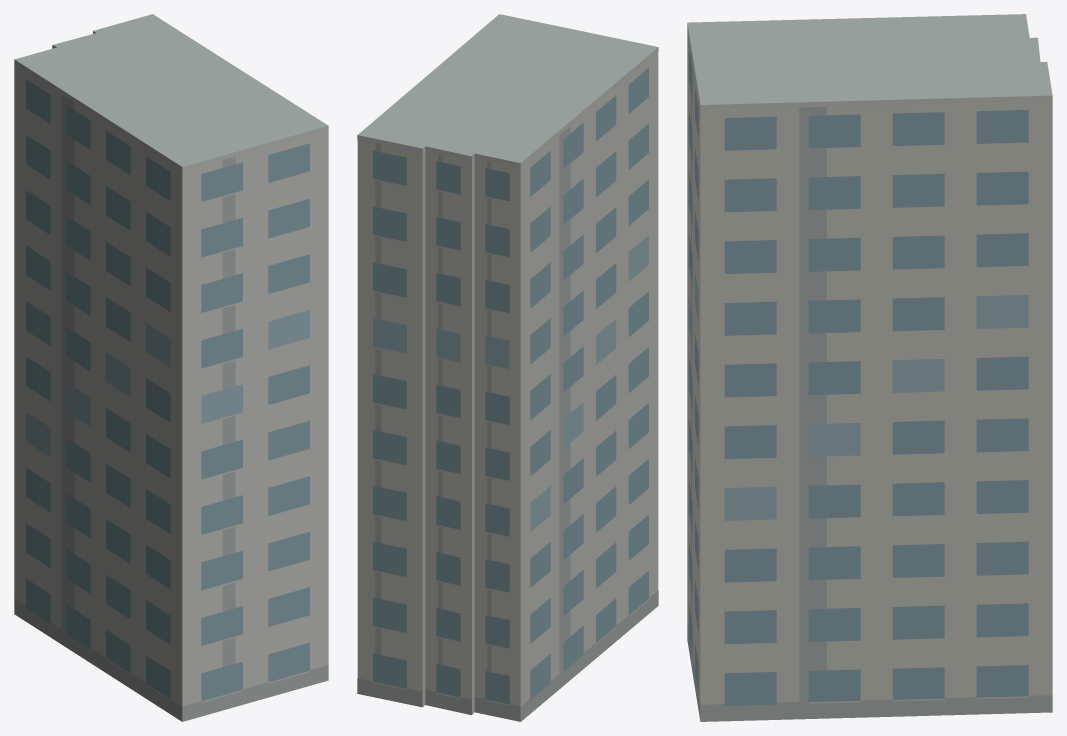
File: survey-upis-32727582.glb
3 renders of one model, left to right at view 1: azimuth 30°, elevation 25°; view 2: azimuth 150°, elevation 25°; view 3: azimuth 270°, elevation 25°, orthographic. The views are drawn at different scales.
Parts seen in each view (by area): view 1: survey-upis-32727582.tmp; view 2: survey-upis-32727582.tmp; view 3: survey-upis-32727582.tmp.
Boxes of the visible parts, <box> form: survey-upis-32727582.tmp: <box>14,14,328,721</box>; survey-upis-32727582.tmp: <box>357,14,658,721</box>; survey-upis-32727582.tmp: <box>687,14,1052,721</box>.
Size of the model in its own units: 9.28 by 29.3 by 15.74.
